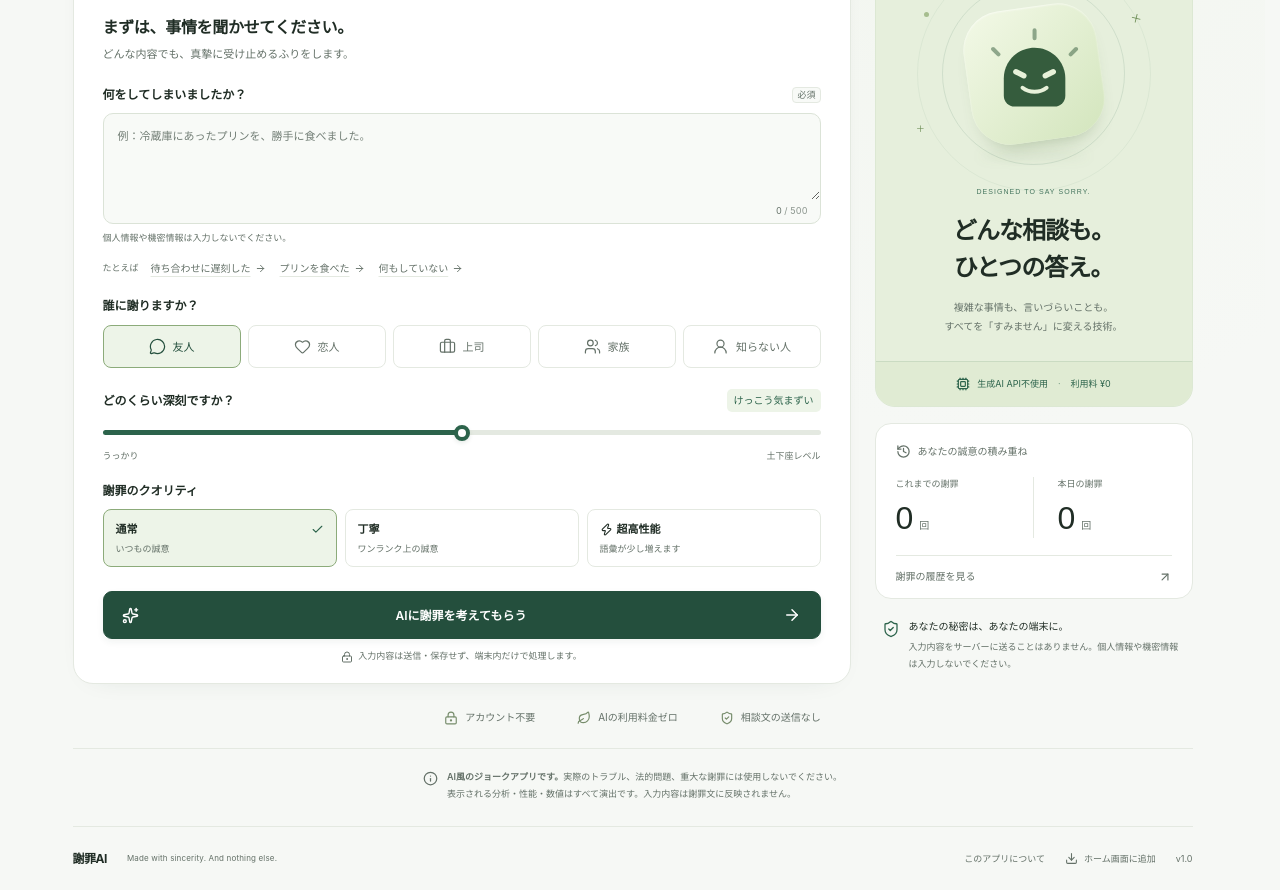
apology generation flow › uses the selected super mode in the result, history, and event
(page scrolled)
Click the radio button labelled "超高性能 語彙が少し増えます" at x=704, y=538, box [586,510,820,568]
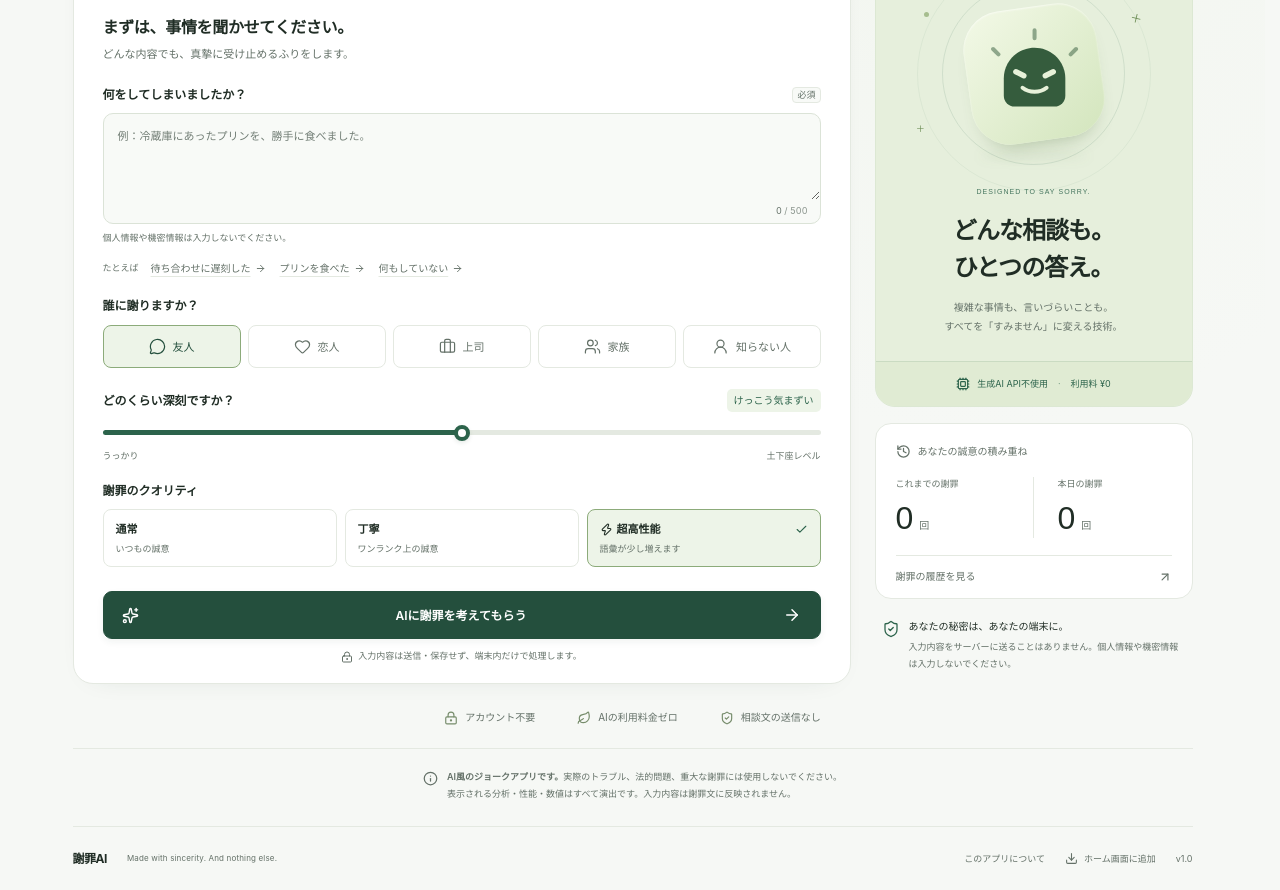
Type "むしろ褒めてもらいたいです" into the text box labelled "何をしてしまいましたか？" at x=462, y=157, box [104,114,820,200]
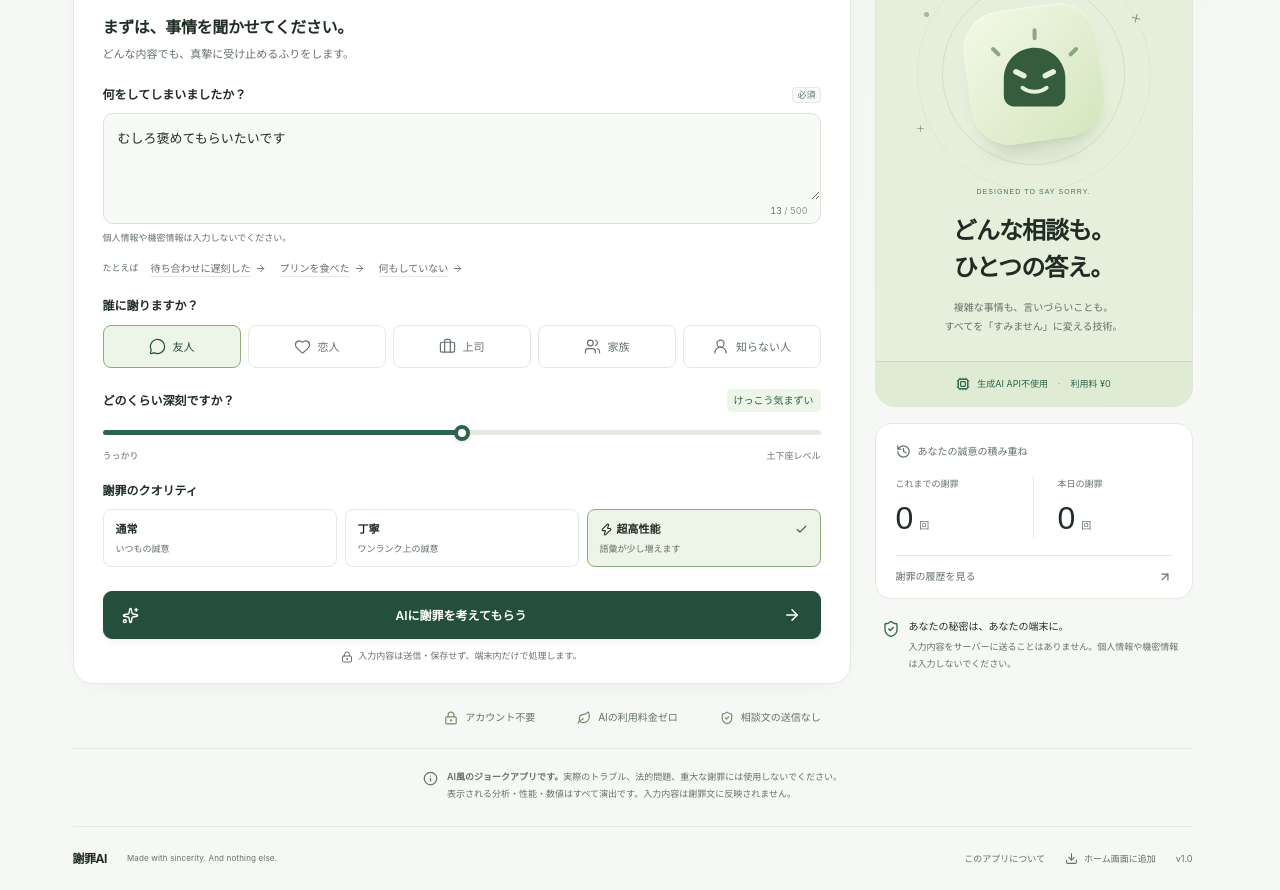
Click the button "AIに謝罪を考えてもらう" at x=462, y=615, box [102,591,820,639]
Wait 4350 ms
(page scrolled)
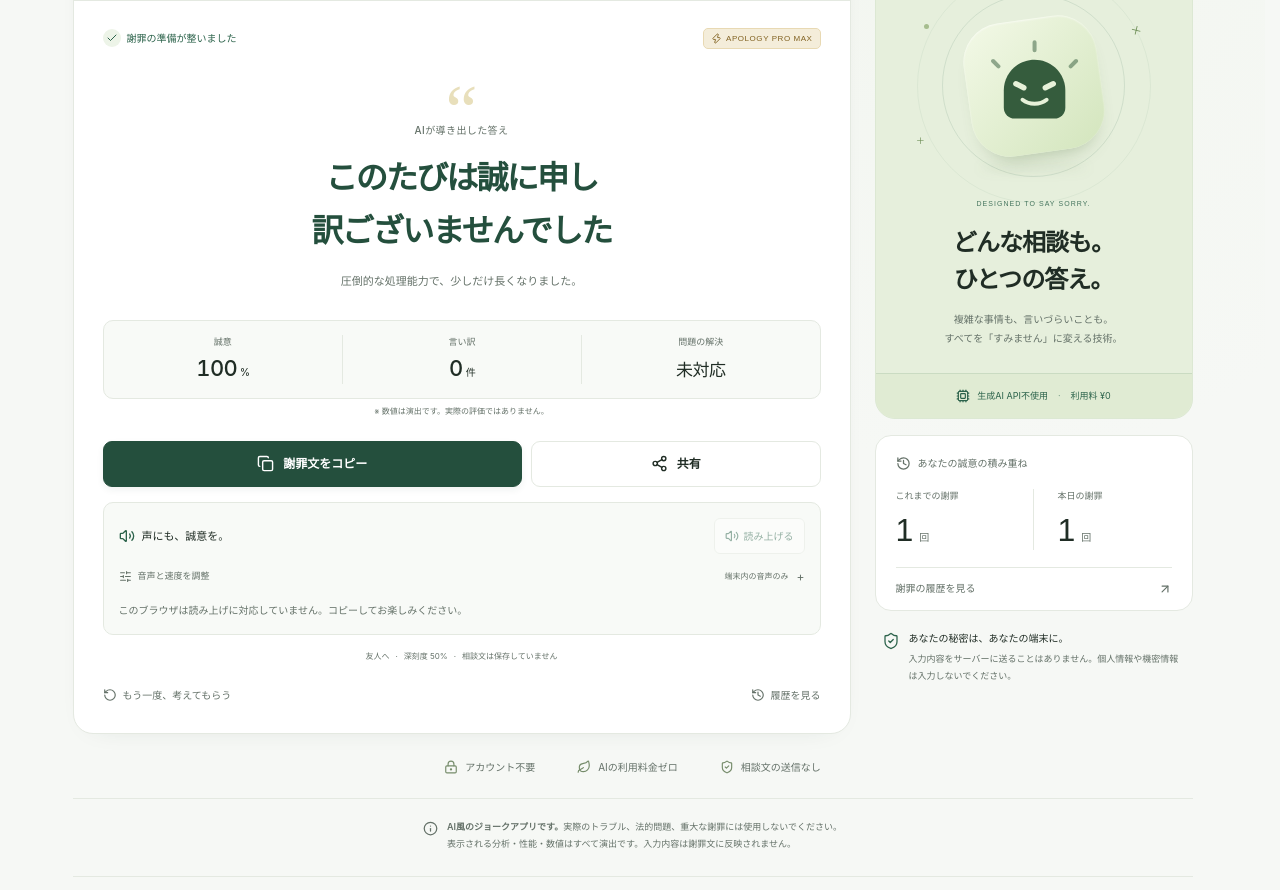
Expected: the text with test id "apology-output" reads "このたびは誠に申し訳ございませんでした", [312,158,611,250]
